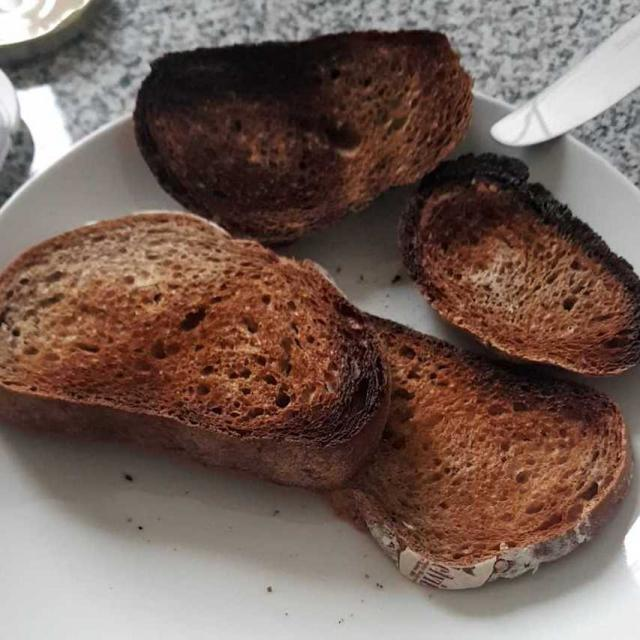bread: (26, 16, 636, 592)
